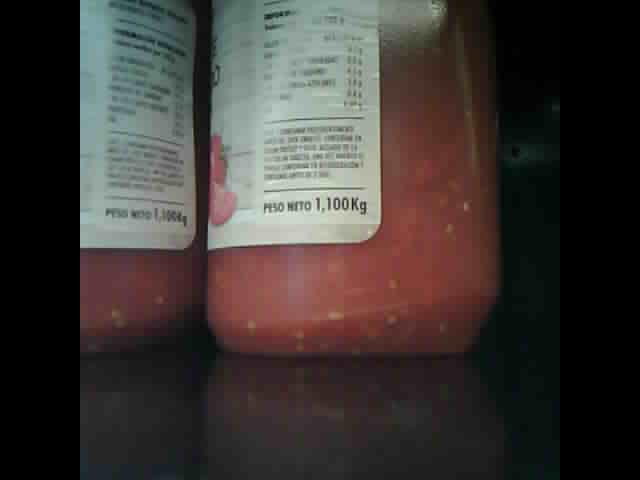tomate: (208, 2, 499, 354), (82, 1, 205, 357)
